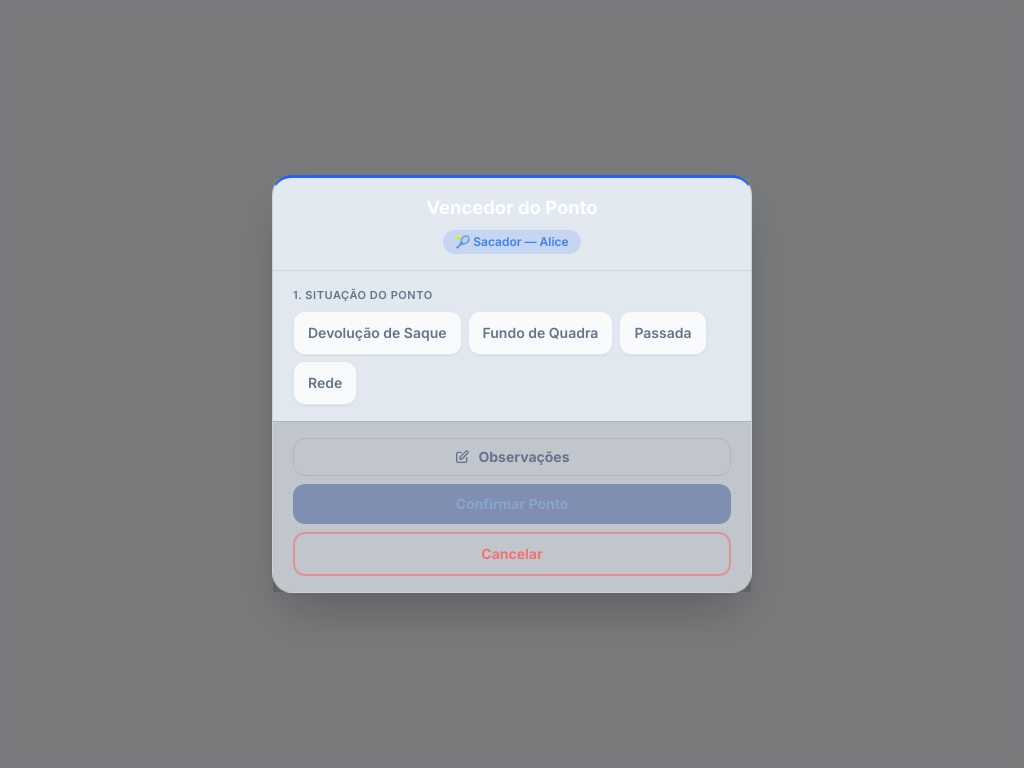
Scenario: PointDetailsModal — Characterization Tests › Situacao selection flow › shows correct Tipo options for fundo
The width and height of the screenshot is (1024, 768).
Expected: the text "1. Situação do Ponto" is shown, [293,288,433,302]
Step 1. Click the button "Fundo de Quadra" → (540, 333), box [468,311,613,355]
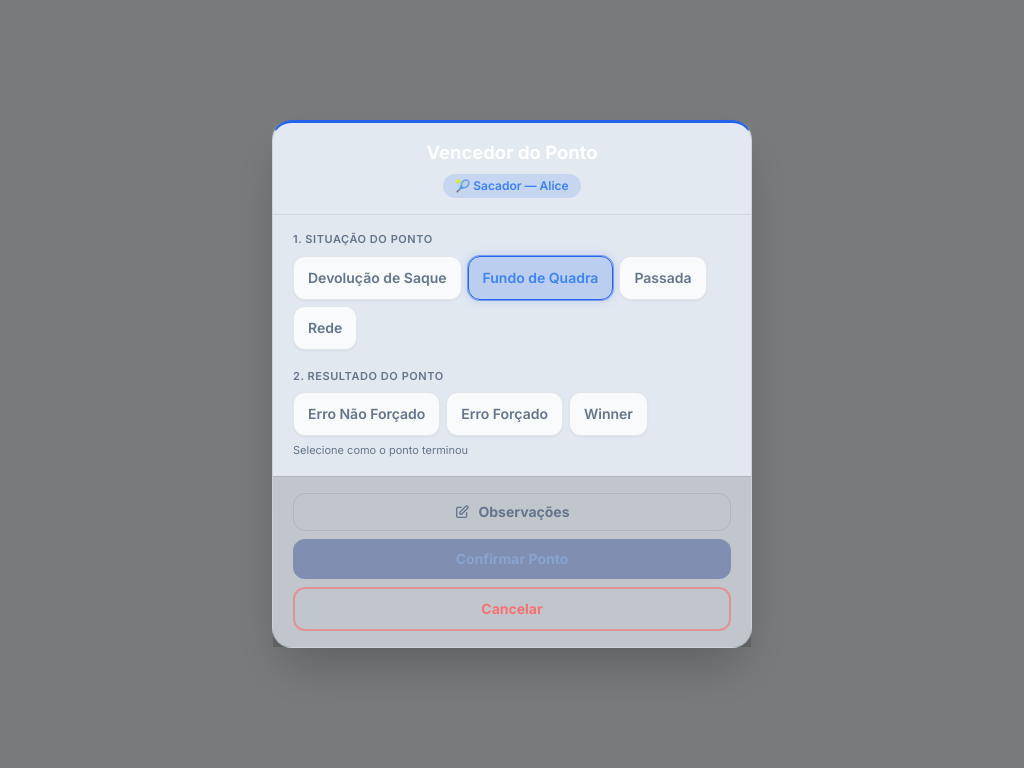
Now the text "2. Resultado do Ponto" is shown, box [293,369,444,383]
Now the number of buttons "Erro Não Forçado" is 3, box [293,392,440,436]; [446,392,563,436]; [569,392,648,436]
